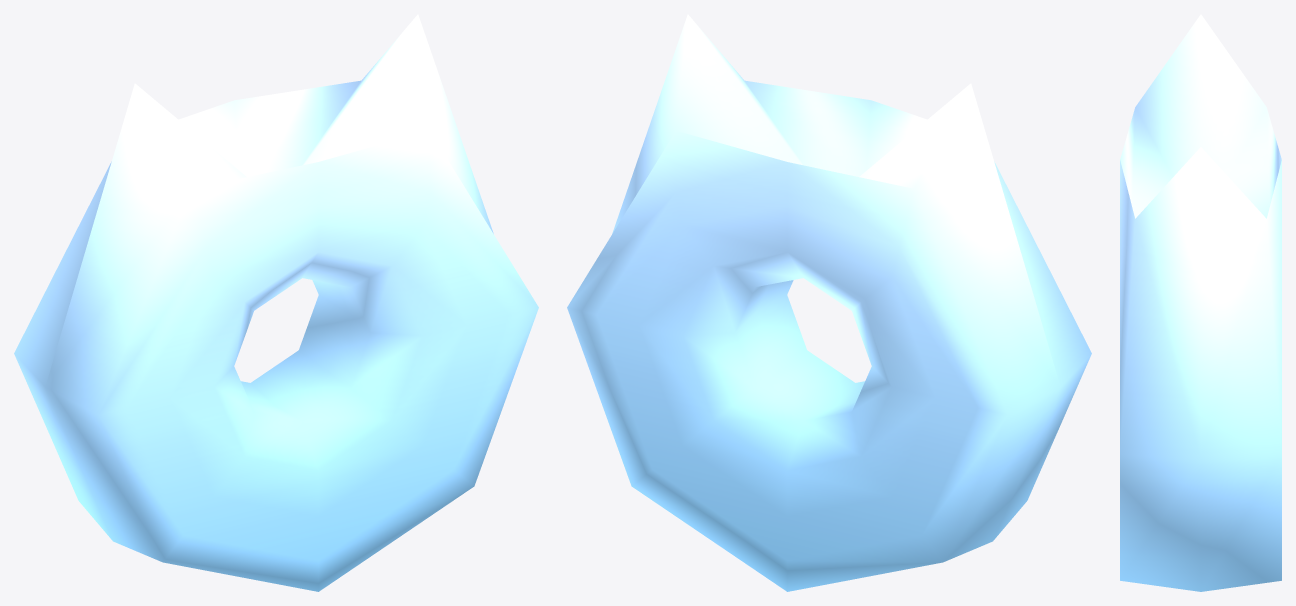
The model's file is steel_grip_116.glb.
3 views of the same model, side by side, from view 1: azimuth 30°, elevation 25°; view 2: azimuth 150°, elevation 25°; view 3: azimuth 270°, elevation 25° (orthographic). The views are drawn at different scales.
Parts seen in each view (by area): view 1: steel_grip_116; view 2: steel_grip_116; view 3: steel_grip_116.
Part boxes in pixels (<box>): steel_grip_116: <box>14,14,538,591</box>; steel_grip_116: <box>567,14,1091,591</box>; steel_grip_116: <box>1120,14,1281,591</box>.
Bounding box in the file's own units: 3.2 × 3.46 × 1.01.
Materials: 1 (1 with a texture image).
